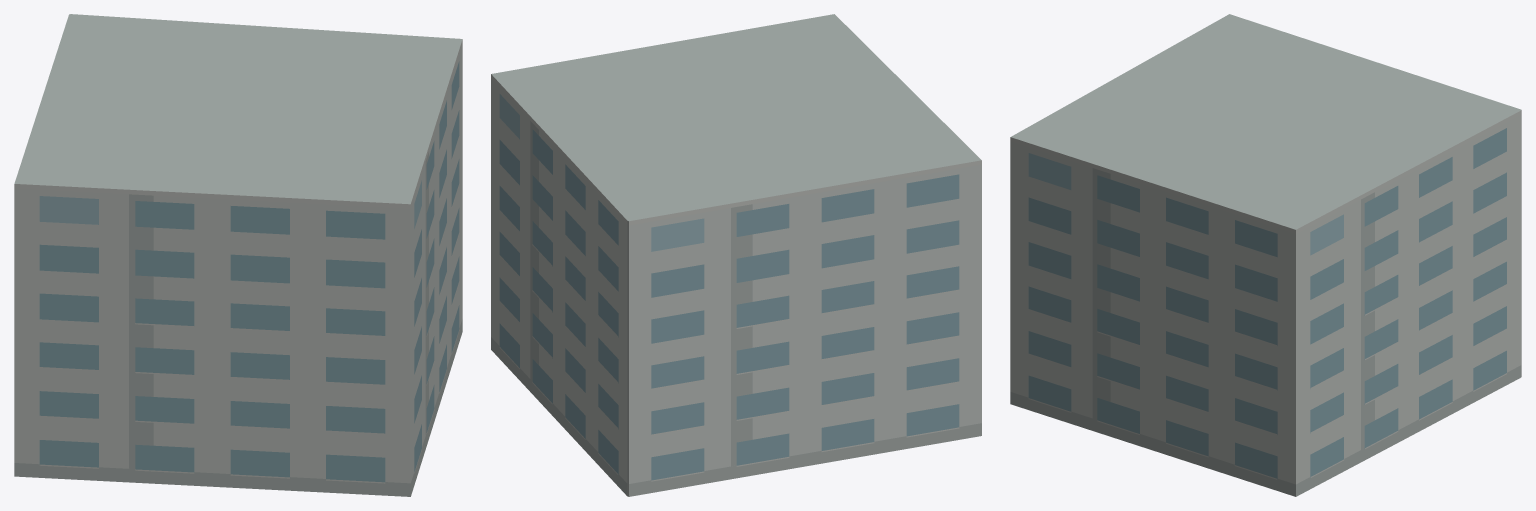
Rendered from survey-upis-32798338.glb.
3 views of the same model, side by side, from view 1: azimuth 30°, elevation 25°; view 2: azimuth 150°, elevation 25°; view 3: azimuth 270°, elevation 25° (orthographic). The views are drawn at different scales.
Visible parts, largest first — view 1: survey-upis-32798338.tmp; view 2: survey-upis-32798338.tmp; view 3: survey-upis-32798338.tmp.
Part boxes in pixels (x1,y1,x2,y2): survey-upis-32798338.tmp: (14,14,462,496); survey-upis-32798338.tmp: (491,14,981,496); survey-upis-32798338.tmp: (1010,14,1521,496).
Size of the model in its own units: 26.99 by 15.57 by 27.01.
